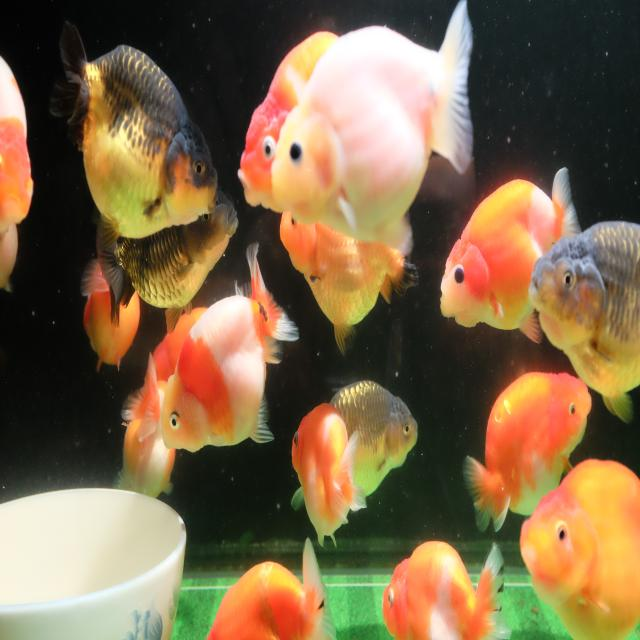Goldfish: (270, 0, 475, 256), (49, 19, 218, 254), (159, 240, 299, 456), (439, 167, 583, 346), (526, 217, 640, 428), (279, 192, 420, 357), (518, 456, 640, 639), (95, 181, 238, 335), (462, 368, 592, 536), (238, 31, 342, 216), (205, 536, 338, 640), (382, 538, 511, 640), (291, 401, 366, 554), (329, 376, 420, 498), (115, 349, 176, 495), (78, 252, 140, 373), (0, 52, 36, 240)
